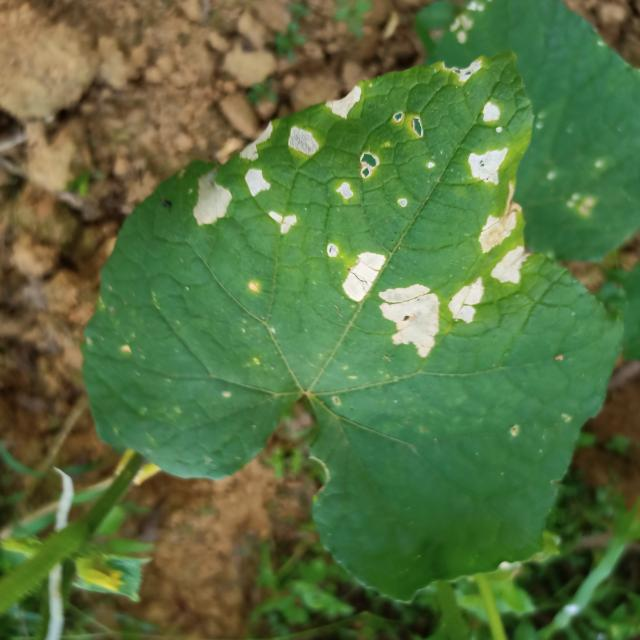disease_cucumber: (342, 244, 437, 359), (195, 166, 298, 236), (478, 202, 527, 286), (467, 98, 507, 186), (241, 125, 325, 163), (448, 275, 483, 325), (340, 152, 376, 200), (329, 86, 369, 120)
